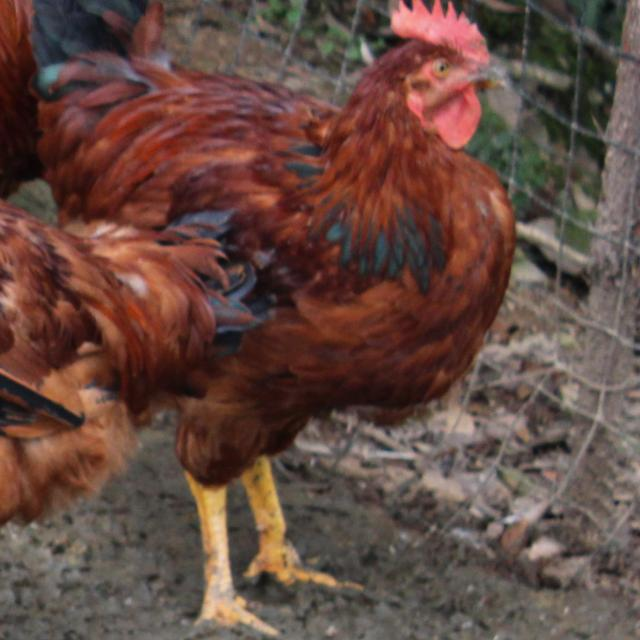cook: (0, 1, 515, 581)
